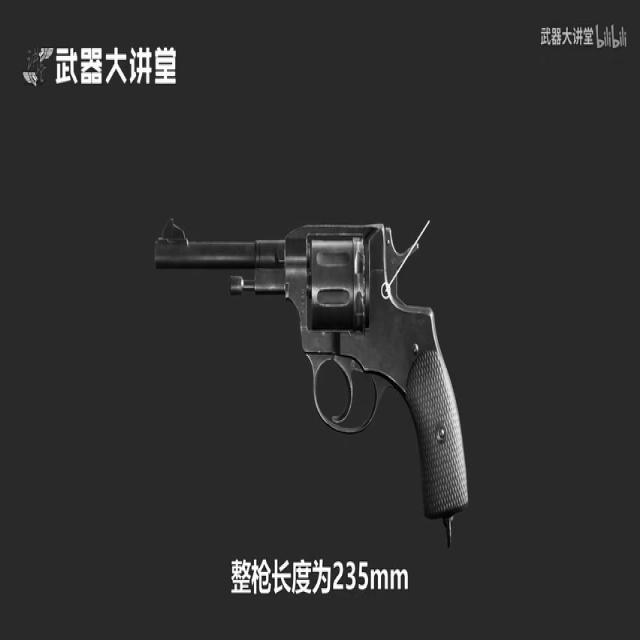Short-Gun: (130, 121, 511, 624)
